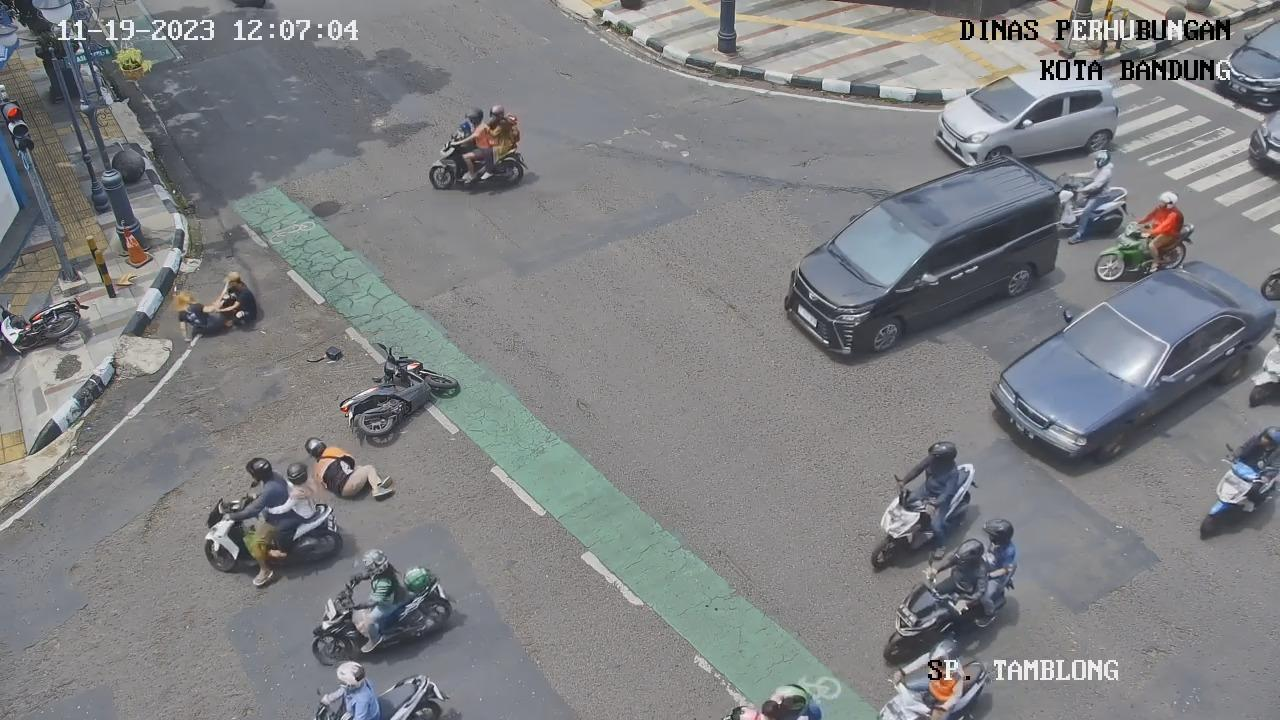accident: (303, 430, 398, 515), (214, 268, 266, 335), (166, 282, 224, 342)
